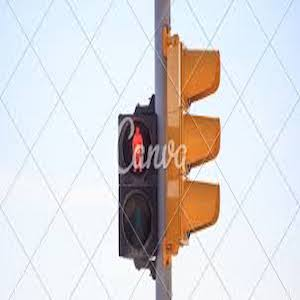red: (128, 125, 147, 169)
